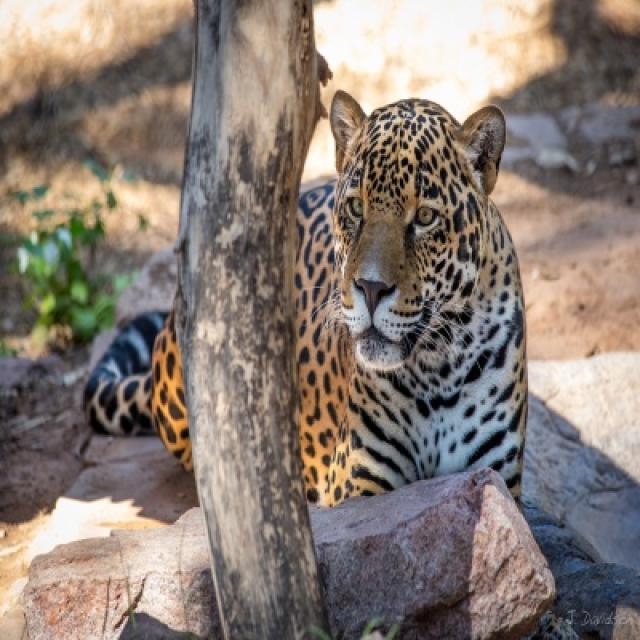Jaguar: (296, 93, 530, 509)
